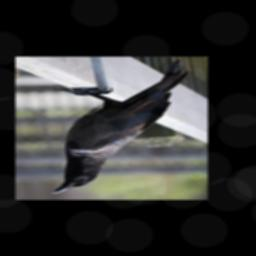Crow: (51, 59, 191, 194)
